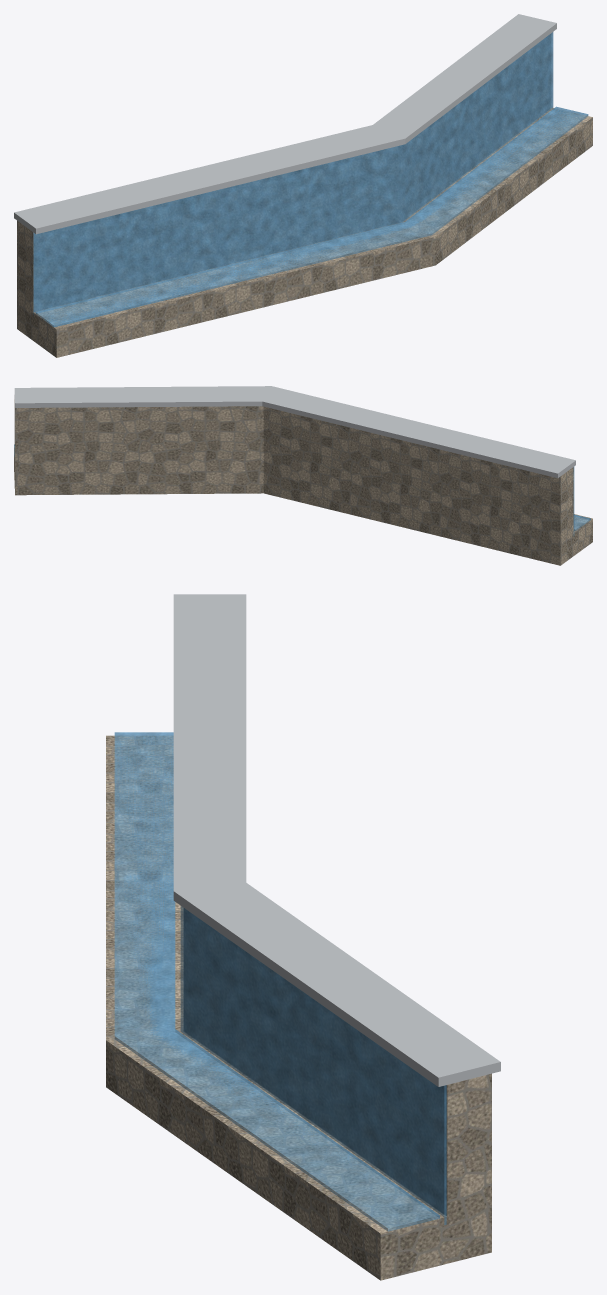
3 renders of one model, top to bottom at view 1: azimuth 30°, elevation 25°; view 2: azimuth 150°, elevation 25°; view 3: azimuth 270°, elevation 25°, orthographic. The views are drawn at different scales.
Visible parts, largest first — view 1: water.cascade_wall (×3); view 2: water.cascade_wall (×3); view 3: water.cascade_wall (×3).
Boxes of the visible parts, x1,y1,x2,y2 form: water.cascade_wall (×3): (14,14,592,357); water.cascade_wall (×3): (14,386,592,565); water.cascade_wall (×3): (106,594,500,1280).
Size of the model in its own units: 6.81 by 2.28 by 1.2.
3 materials, 2 textured.
